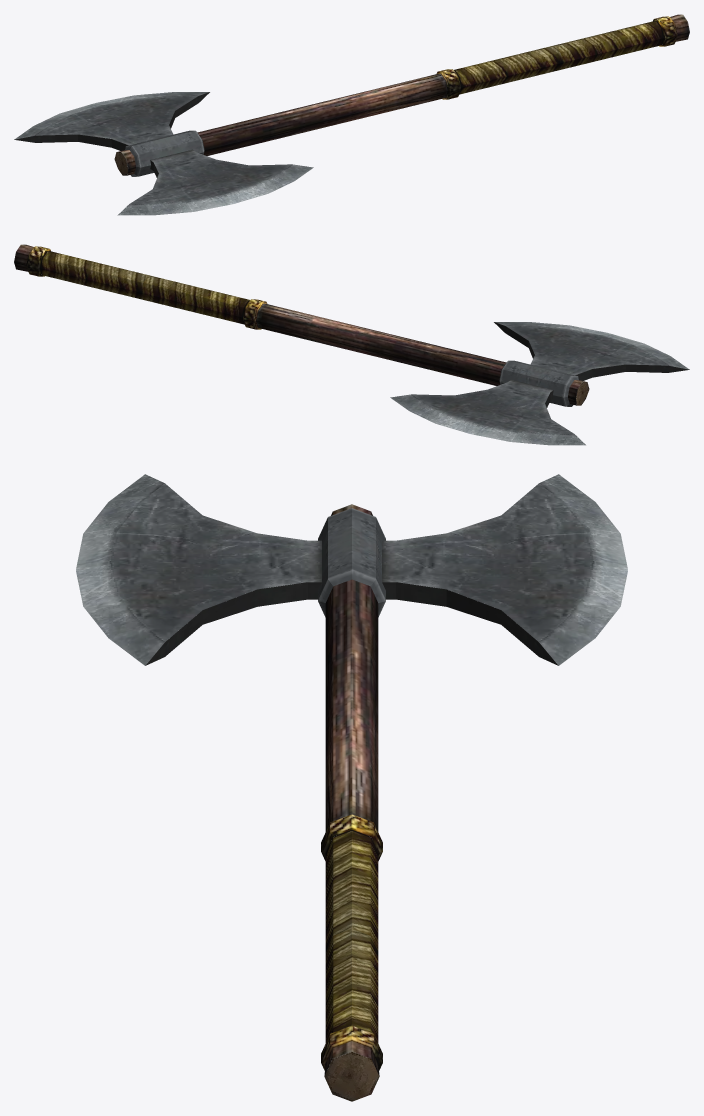
The model's file is KM_RYCHU_AXE_02.glb.
The picture shows the model from 3 angles, top to bottom: view 1: azimuth 30°, elevation 25°; view 2: azimuth 150°, elevation 25°; view 3: azimuth 270°, elevation 25°; orthographic projection. The views are drawn at different scales.
Visible parts, largest first — view 1: KM_RYCHU_AXE_02; view 2: KM_RYCHU_AXE_02; view 3: KM_RYCHU_AXE_02.
Part boxes in pixels (bbox=[...]): KM_RYCHU_AXE_02: bbox=[14, 14, 689, 215]; KM_RYCHU_AXE_02: bbox=[14, 244, 689, 445]; KM_RYCHU_AXE_02: bbox=[76, 474, 627, 1101].
Bounding box in the file's own units: 0.9791 × 0.0467 × 0.3793.
Materials: 5 (5 with a texture image).
